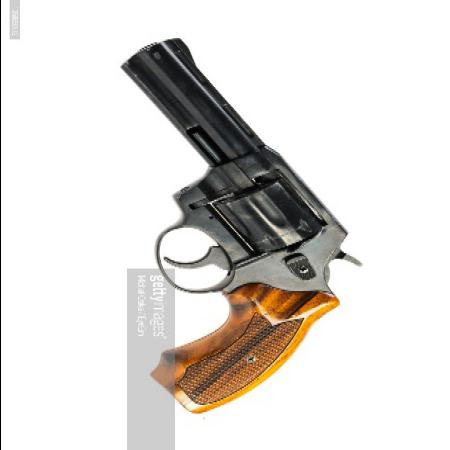Pistol: (117, 34, 368, 415)
